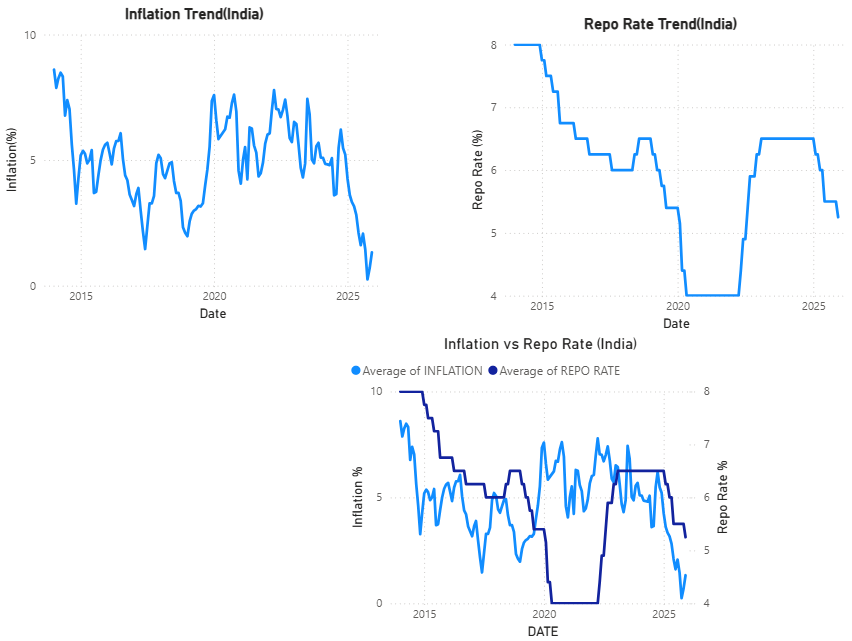

This screenshot's page, from the dashboard's own definition file:
{"tool":"powerbi","page":{"name":"Page 1","canvas":[1280,720],"ordinal":0},"visuals":[{"type":"lineChart","title":"Inflation Trend(India)","fields":{"Y":["Avg(indian_macro_data.INFLATION)"],"Category":["indian_macro_data.DATE"]},"box":[9.6,19.2,426.8,352.7],"z":0},{"type":"lineChart","title":"Repo Rate Trend(India)","fields":{"Y":["Avg(indian_macro_data.REPO RATE)"],"Category":["indian_macro_data.DATE"]},"box":[521.4,30.2,426.8,352.7],"z":1000},{"type":"lineChart","title":"Inflation vs Repo Rate (India)","fields":{"Category":["indian_macro_data.DATE"],"Y":["Avg(indian_macro_data.INFLATION)"],"Y2":["Avg(indian_macro_data.REPO RATE)"]},"box":[389.7,381.5,426.8,338.9],"z":2000}]}

Visuals, with their boxes on the page's 1280x720 design canvas (x1, y1, x2, y2). These are canvas units, not pixel positions in the 852x641 screenshot, which may show the page scaled, cropped or inside an application window:
"Inflation Trend(India)" lineChart: [10, 19, 436, 372]
"Repo Rate Trend(India)" lineChart: [521, 30, 948, 383]
"Inflation vs Repo Rate (India)" lineChart: [390, 382, 816, 720]
